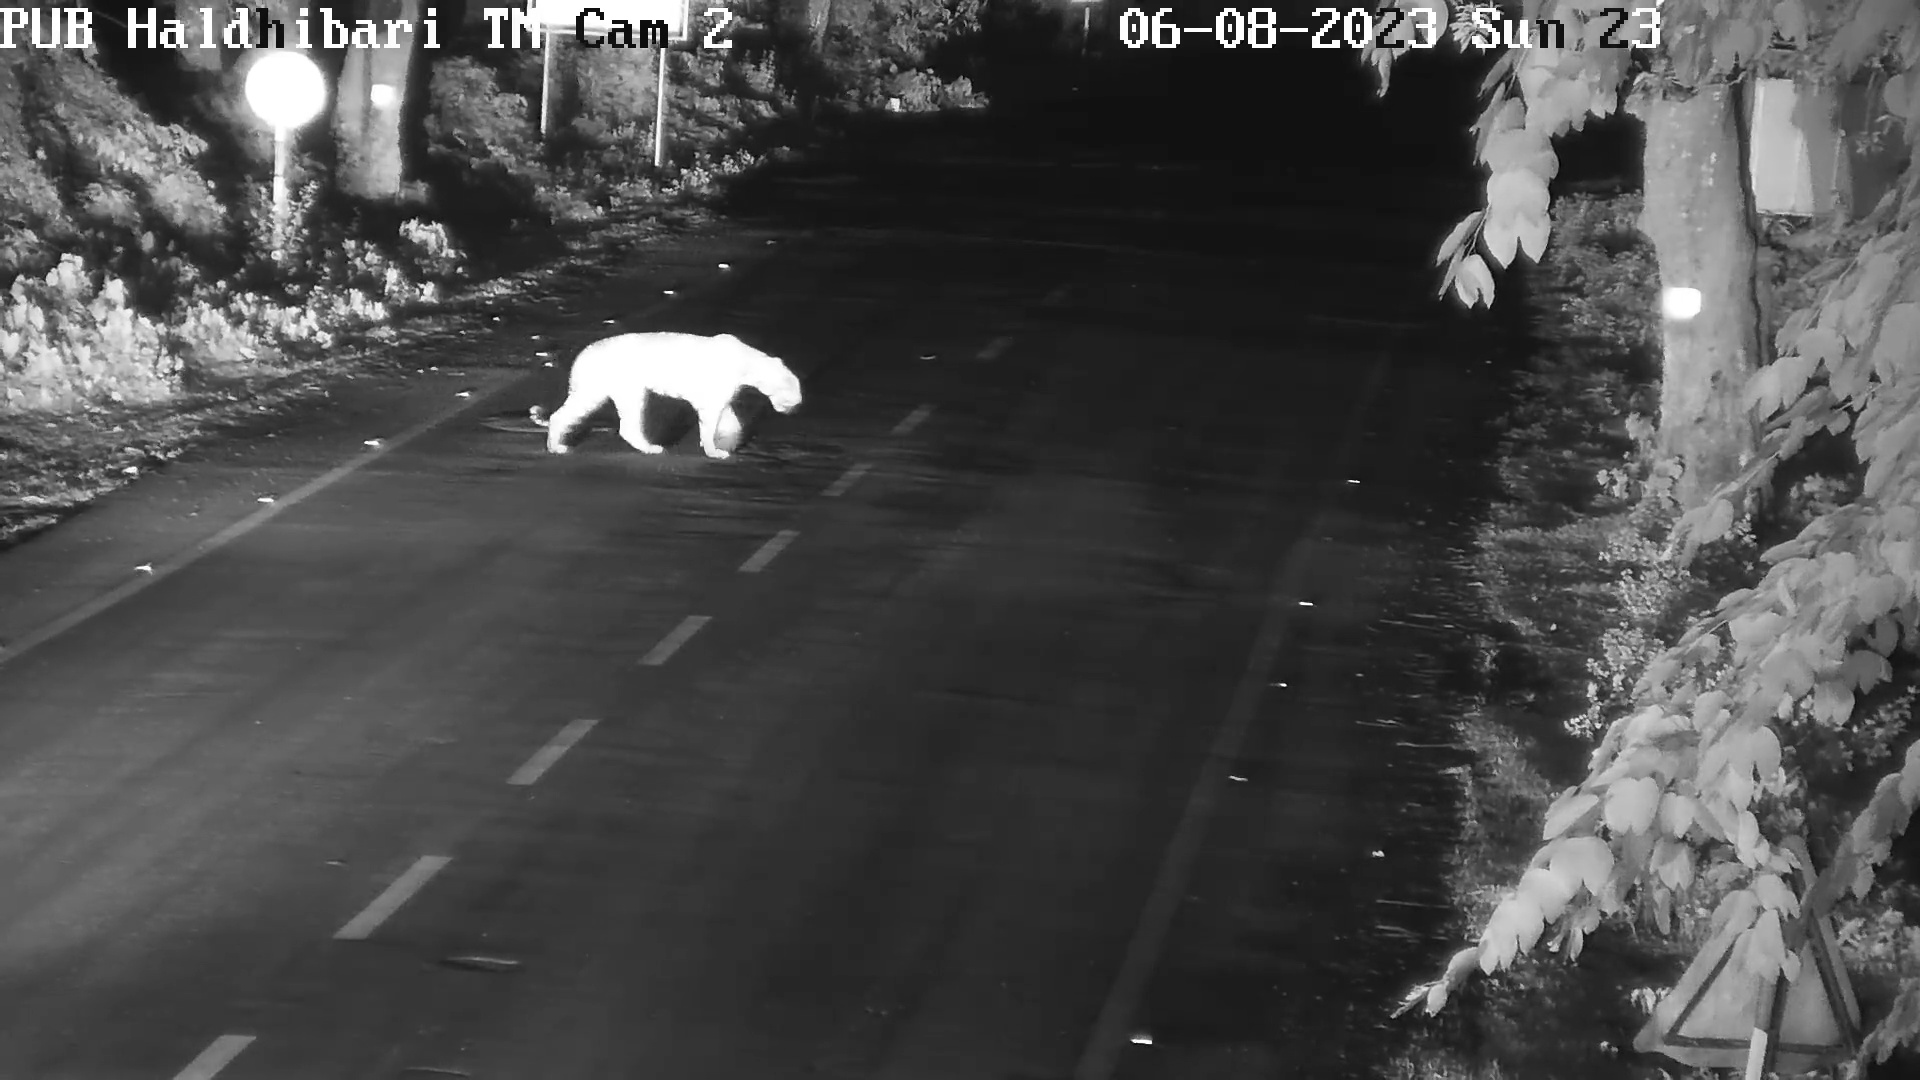tigers: (531, 327, 808, 459)
